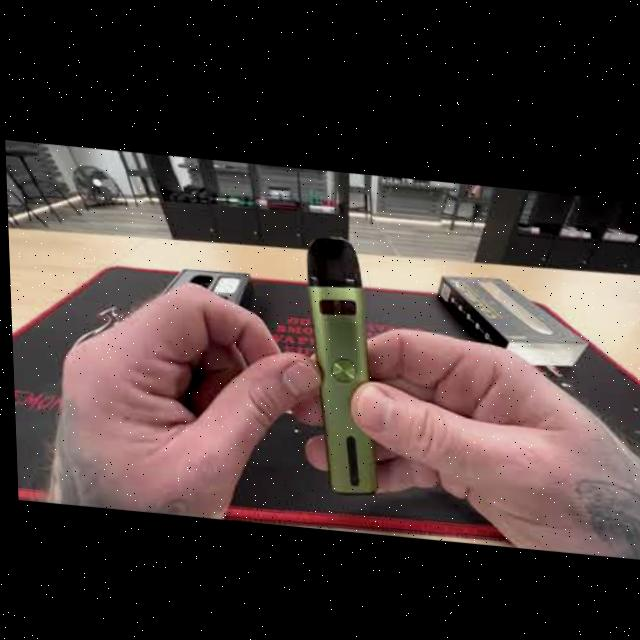vape: (303, 228, 376, 488)
